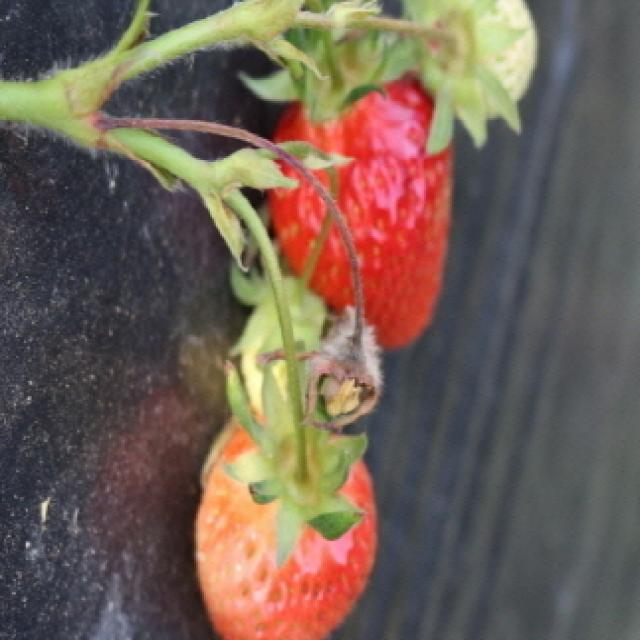Gray Mold: (255, 291, 383, 429)
